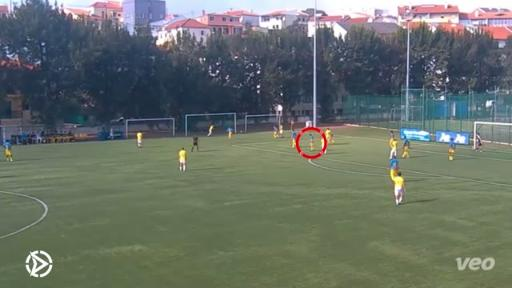highlight_overlay: (297, 126, 328, 160)
